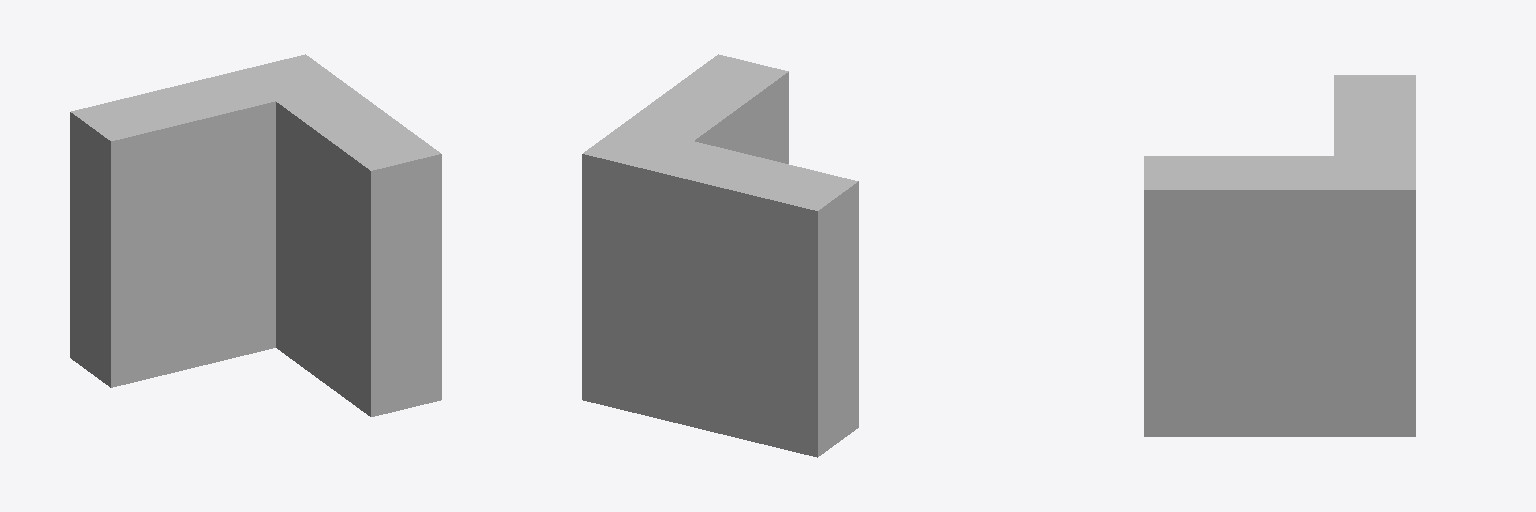
The model's file is Tr-SupportSliders.obj.
The picture shows the model from 3 angles: view 1: azimuth 30°, elevation 25°; view 2: azimuth 150°, elevation 25°; view 3: azimuth 270°, elevation 25°; orthographic projection.
Visible parts, largest first — view 1: Tr-SupportSliders_Support_Cube.002; view 2: Tr-SupportSliders_Support_Cube.002; view 3: Tr-SupportSliders_Support_Cube.002.
Part boxes in pixels (x1,y1,x2,y2): Tr-SupportSliders_Support_Cube.002: (70, 54, 441, 416); Tr-SupportSliders_Support_Cube.002: (582, 54, 858, 457); Tr-SupportSliders_Support_Cube.002: (1144, 75, 1415, 436).
Size of the model in its own units: 1 by 1 by 1.